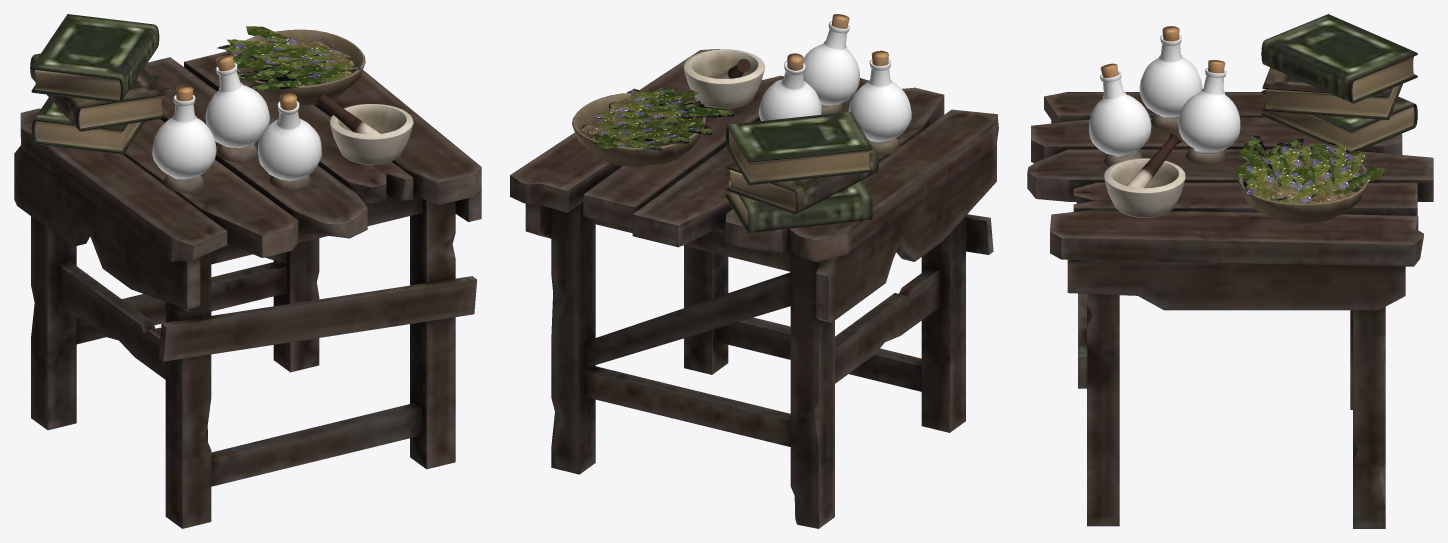
The model's file is SM_MedicineFacilityMedieval_158471.glb.
The picture shows the model from 3 angles, left to right: view 1: azimuth 30°, elevation 25°; view 2: azimuth 150°, elevation 25°; view 3: azimuth 270°, elevation 25°; orthographic projection. The views are drawn at different scales.
Bounding box in the file's own units: 1.1 × 1.28 × 1.21.
Materials: 2 (1 with a texture image).
